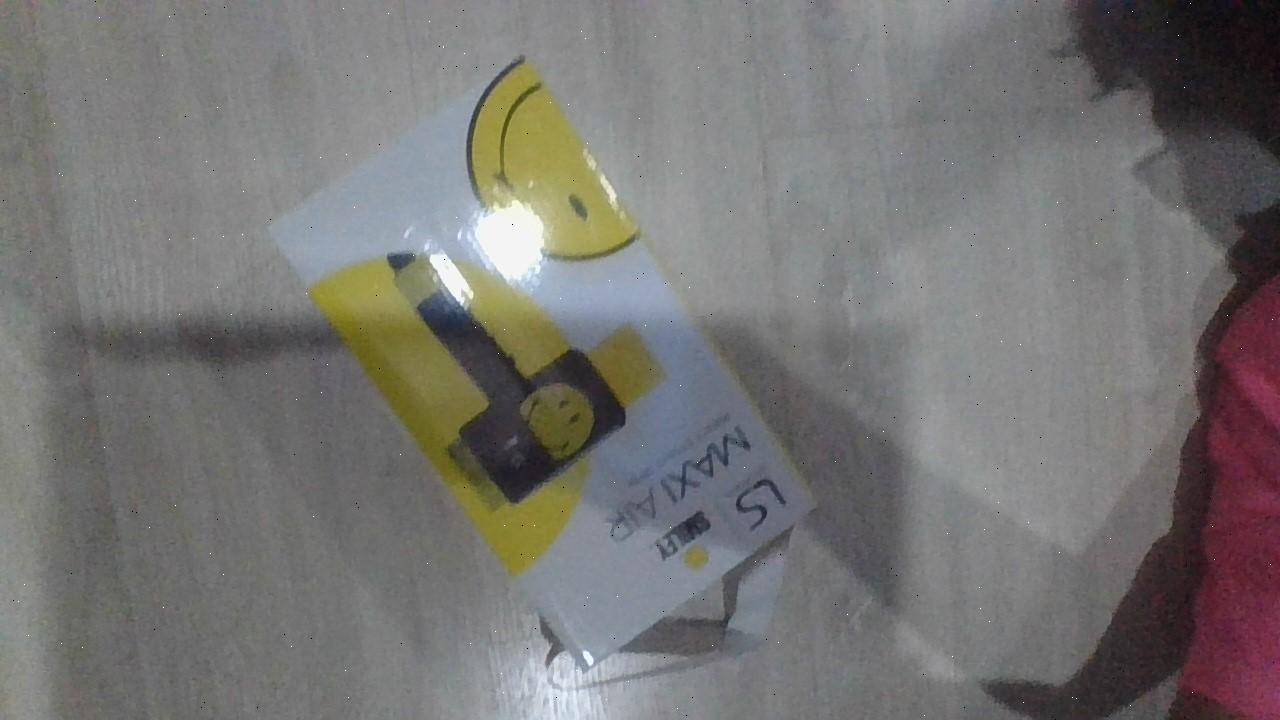Dryer: (264, 52, 821, 671)
